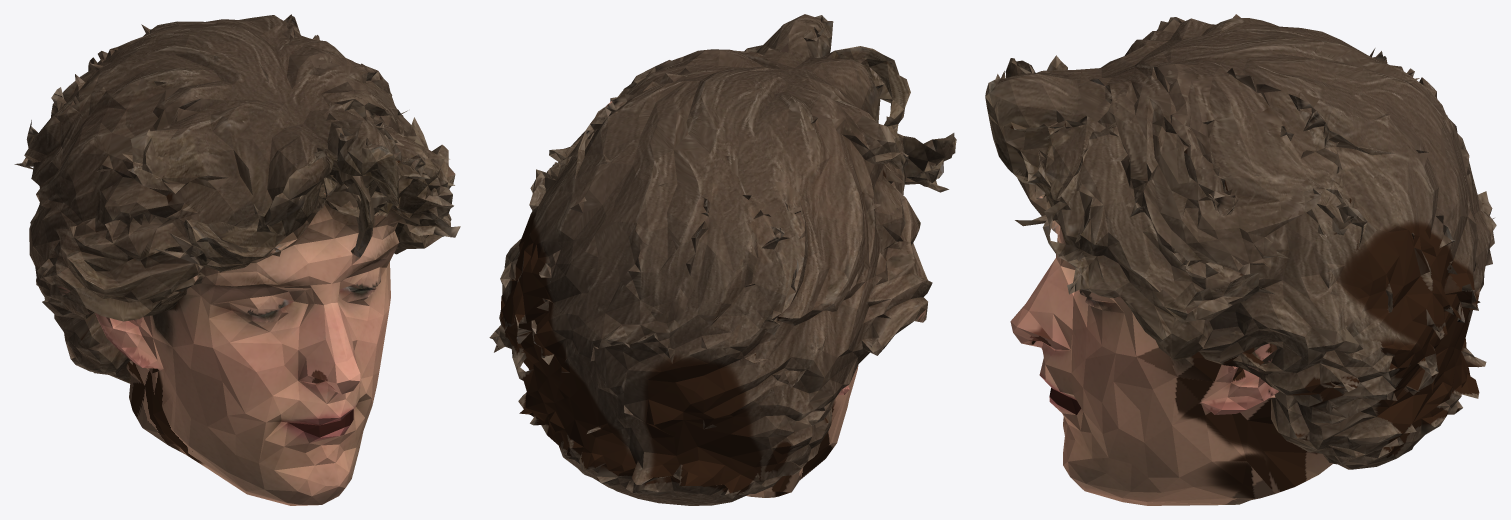
File: WillHead.glb
3 renders of one model, left to right at view 1: azimuth 30°, elevation 25°; view 2: azimuth 150°, elevation 25°; view 3: azimuth 270°, elevation 25°, orthographic. The views are drawn at different scales.
Parts seen in each view (by area): view 1: head; view 2: head; view 3: head.
Boxes of the visible parts, left/top/right/bottom form: head: left=14, top=14, right=460, bottom=505; head: left=489, top=14, right=956, bottom=505; head: left=985, top=14, right=1496, bottom=505.
Size of the model in its own units: 1.63 by 1.73 by 1.76.
Materials: 2 (1 with a texture image).
